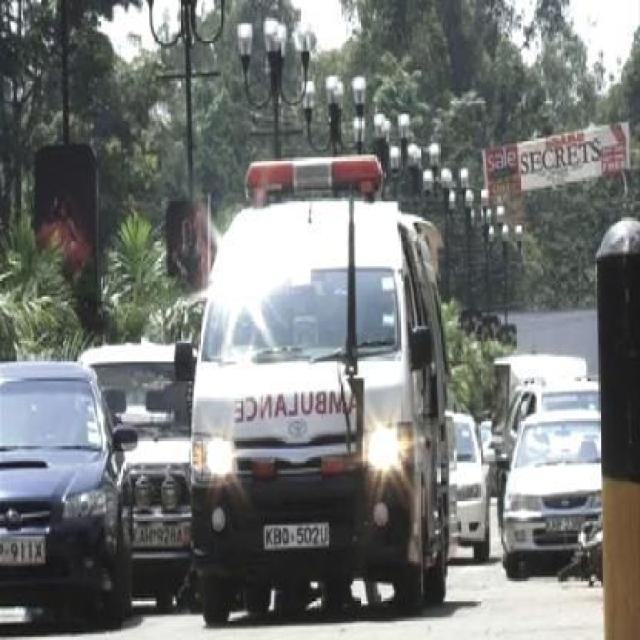Ambulance: (166, 146, 467, 588)
